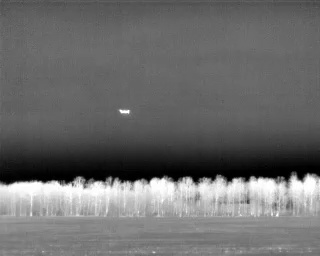DRONE: (115, 104, 135, 120)
